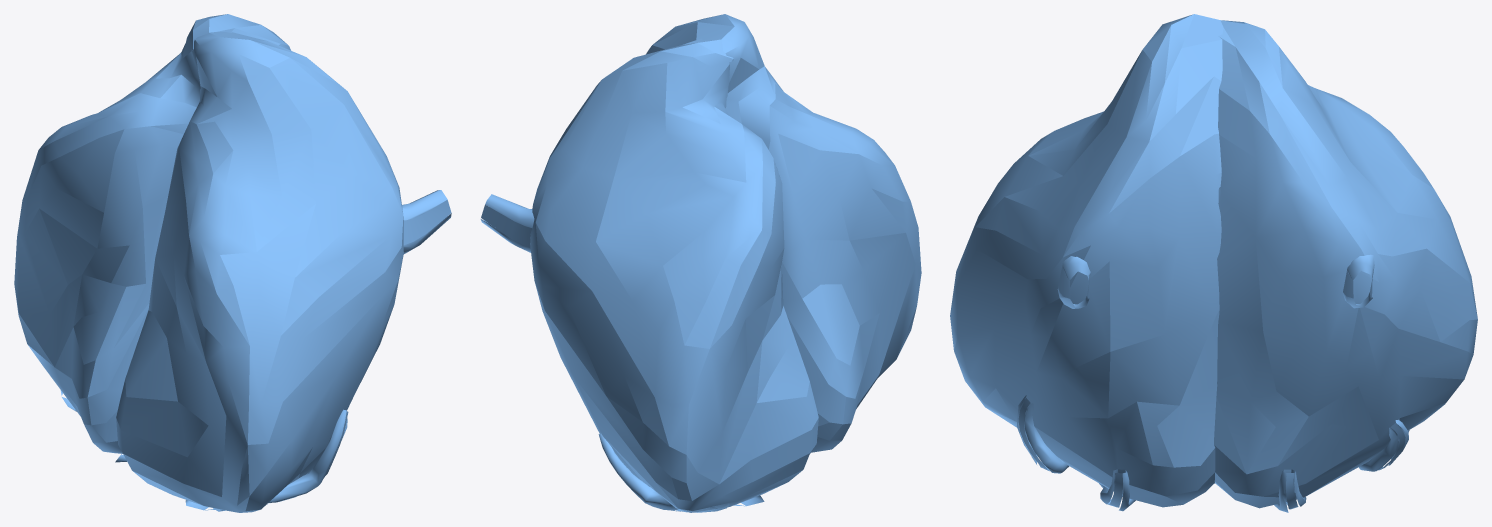
Rendered from bridgeOPT.fbx.
The picture shows the model from 3 angles, left to right: view 1: azimuth 30°, elevation 25°; view 2: azimuth 150°, elevation 25°; view 3: azimuth 270°, elevation 25°; orthographic projection. The views are drawn at different scales.
Visible parts, largest first — view 1: Cube; view 2: Cube; view 3: Cube.
Part boxes in pixels (<box>): Cube: <box>14,14,451,512</box>; Cube: <box>480,14,921,512</box>; Cube: <box>950,14,1477,512</box>.
Bounding box in the file's own units: 465 × 681 × 682.
